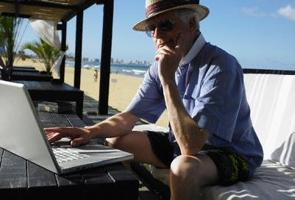person: (43, 1, 265, 200)
